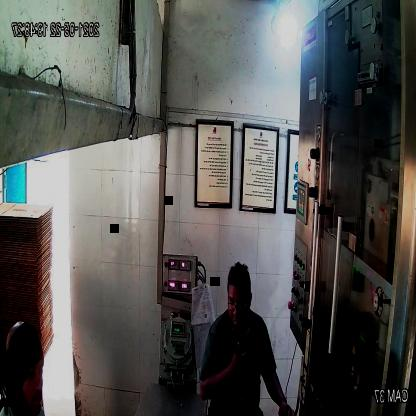goggles: (226, 292, 254, 316)
